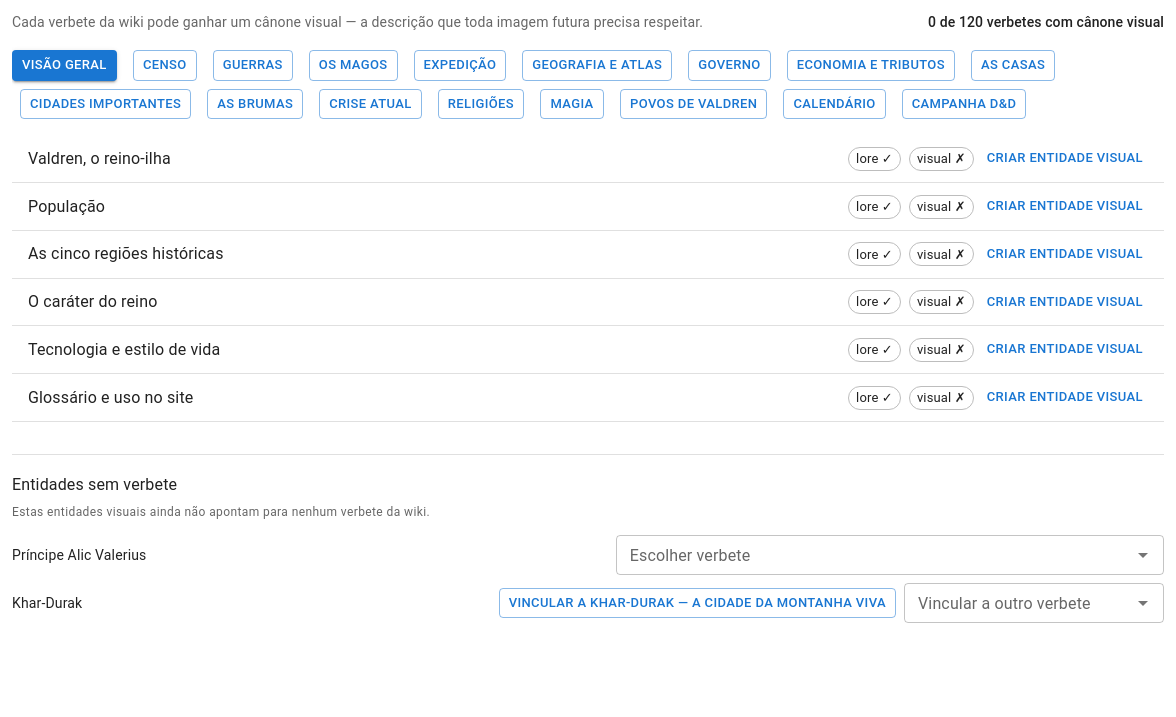
AcervoTab › switches sections
The image size is (1176, 717).
Check: the text "Valdren, o reino-ilha" is shown, box [28, 149, 171, 168]
What coordinates should you click on to do the following:
click the button "As Casas"
I would click on:
 (1013, 65)
Its box is [971, 50, 1055, 81].
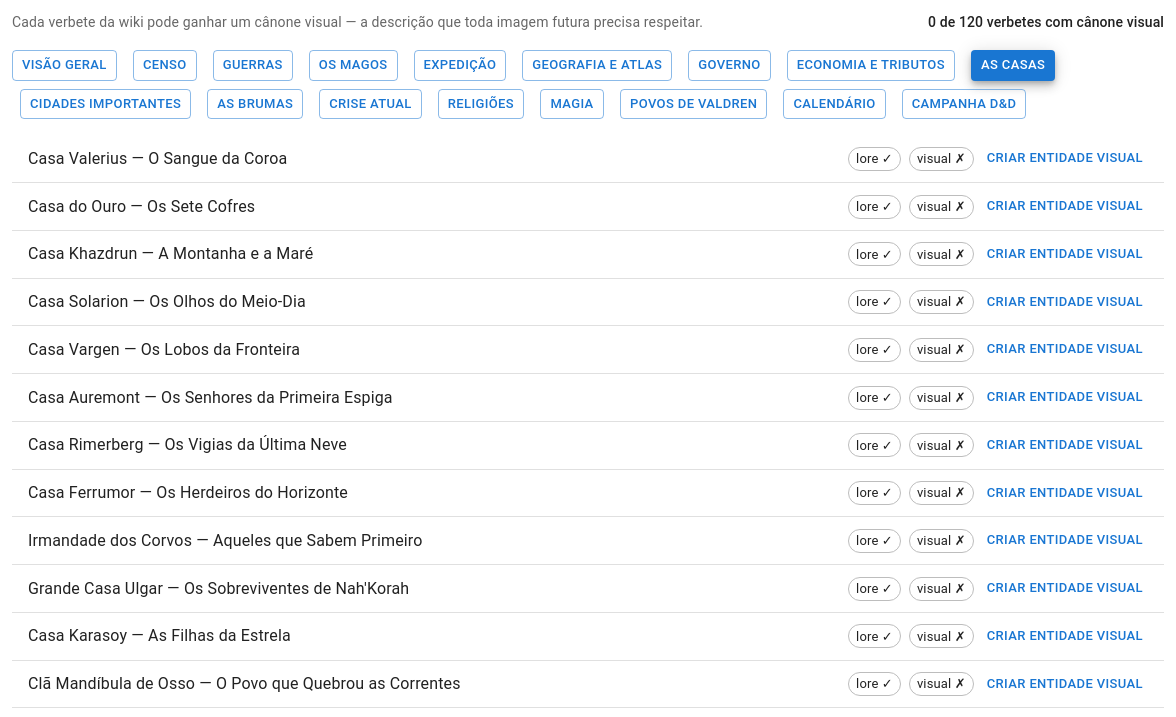
Check: the text "Casa Valerius — O Sangue da Coroa" is shown, box [28, 149, 287, 168]
Check: the text "Valdren, o reino-ilha" is gone
